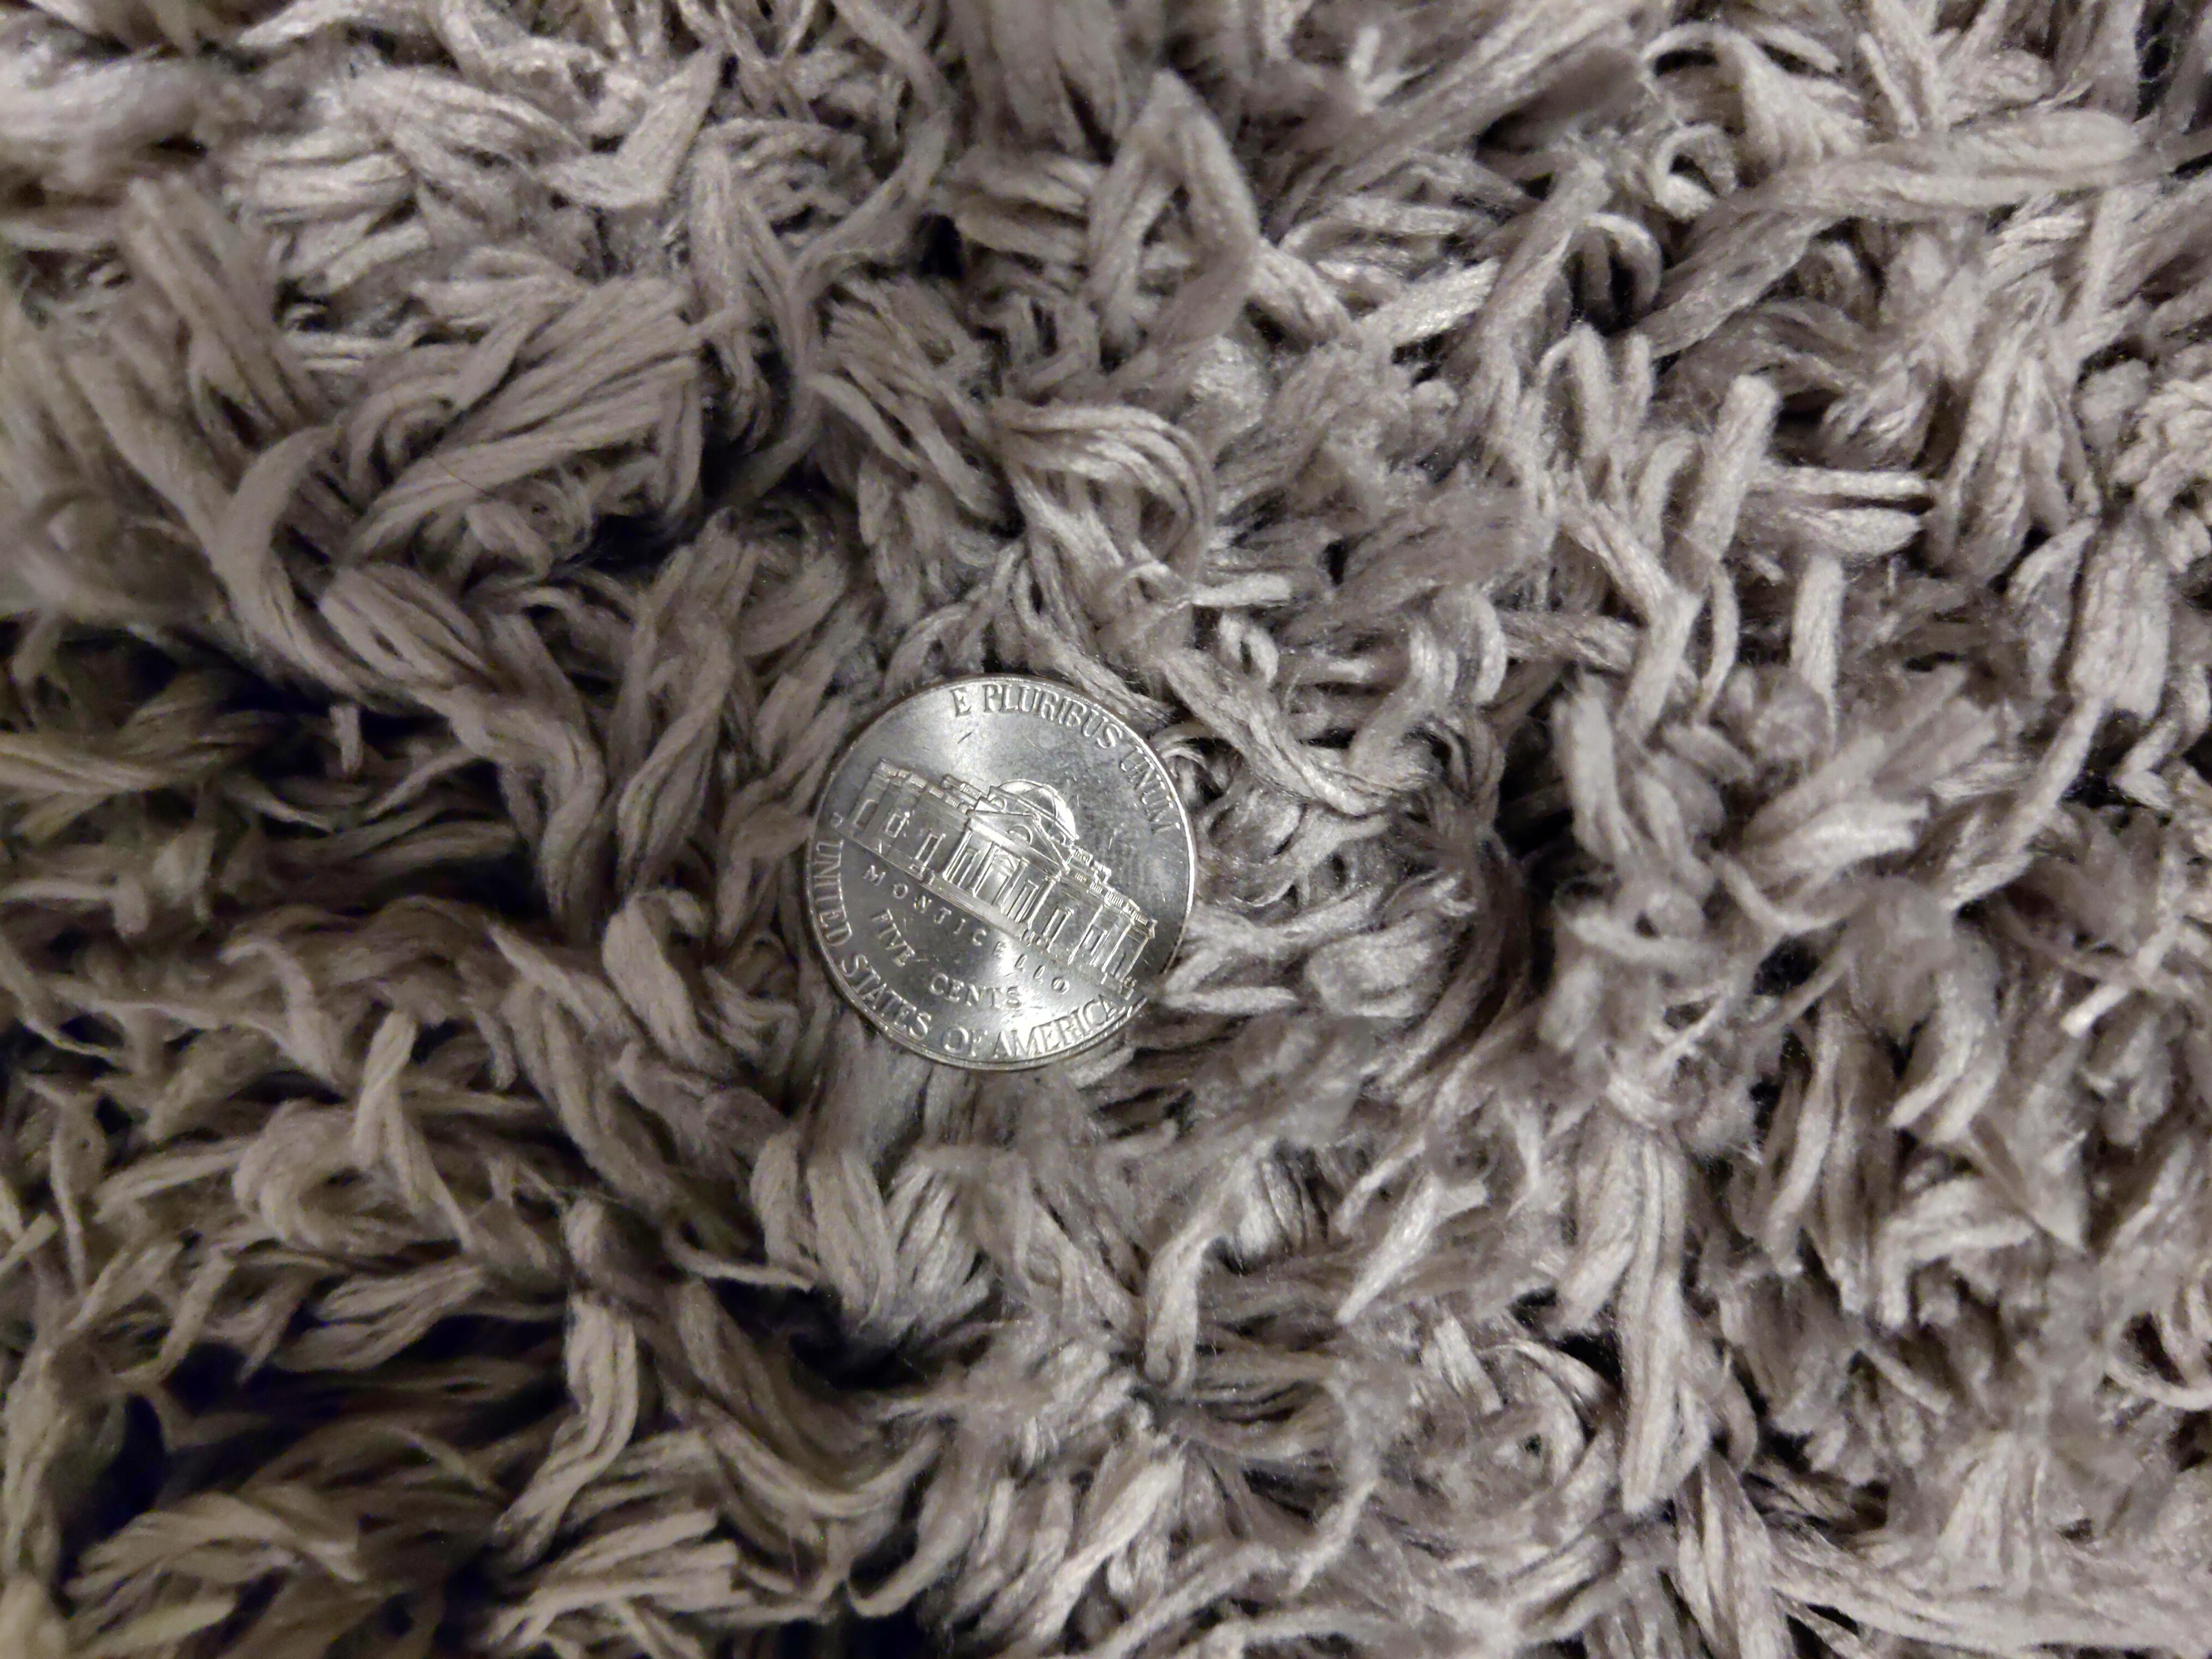Nickel: (801, 669, 1197, 1070)
